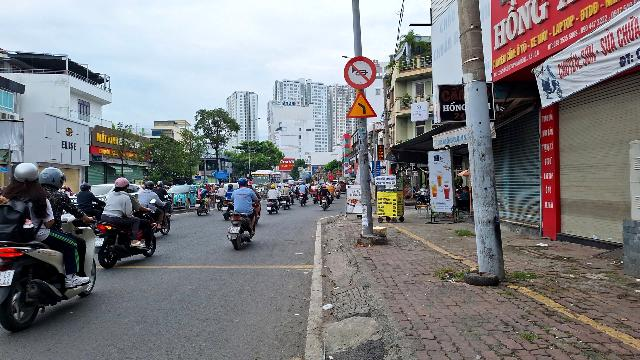cam-bop-coi: (344, 56, 377, 89)
cho-ngoat-nguy-hiem-ben-trai: (346, 90, 377, 117)
